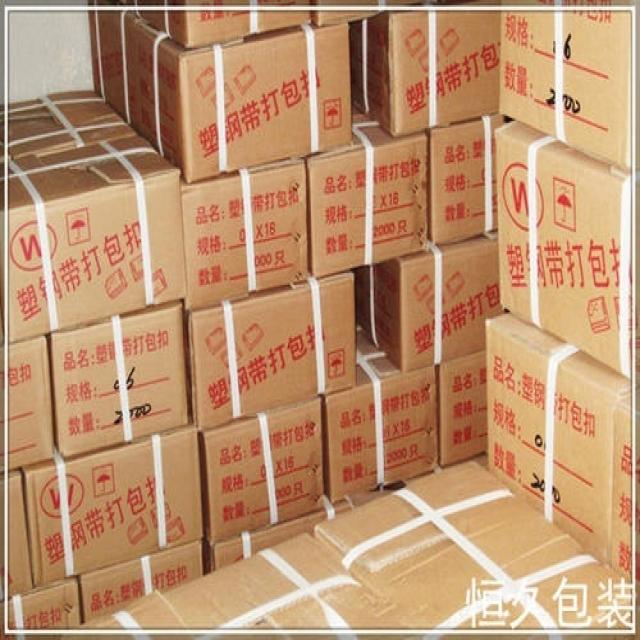box: (315, 459, 640, 640), (90, 0, 352, 184), (50, 532, 431, 640), (484, 311, 639, 568), (0, 135, 186, 346), (495, 121, 640, 384), (22, 423, 205, 587), (184, 270, 357, 433), (498, 0, 640, 174), (47, 300, 191, 459), (355, 230, 507, 375), (323, 323, 439, 503), (306, 113, 429, 280), (349, 2, 500, 138), (180, 155, 310, 311), (198, 398, 324, 546), (202, 485, 398, 577), (79, 539, 205, 623), (429, 113, 504, 246), (0, 90, 142, 160), (114, 0, 312, 49), (611, 386, 640, 591), (438, 352, 486, 468), (0, 577, 82, 640), (0, 469, 35, 599), (310, 0, 433, 27)
